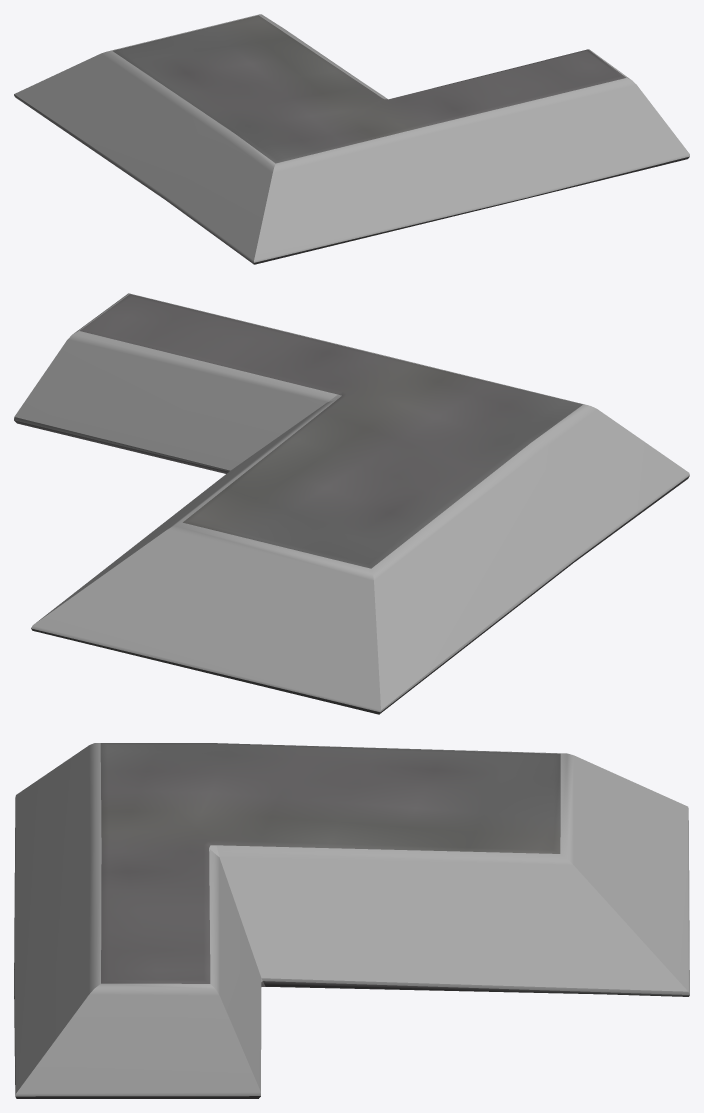
The model's file is Roof_Flat_CLG.fbx.
3 renders of one model, top to bottom at view 1: azimuth 30°, elevation 25°; view 2: azimuth 150°, elevation 25°; view 3: azimuth 270°, elevation 25°, orthographic. The views are drawn at different scales.
Visible parts, largest first — view 1: pCube5; view 2: pCube5; view 3: pCube5.
Boxes of the visible parts, x1,y1,x2,y2 form: pCube5: (14, 14, 689, 264); pCube5: (14, 293, 689, 714); pCube5: (14, 743, 689, 1098).
Size of the model in its own units: 63.77 by 10.64 by 60.9.
